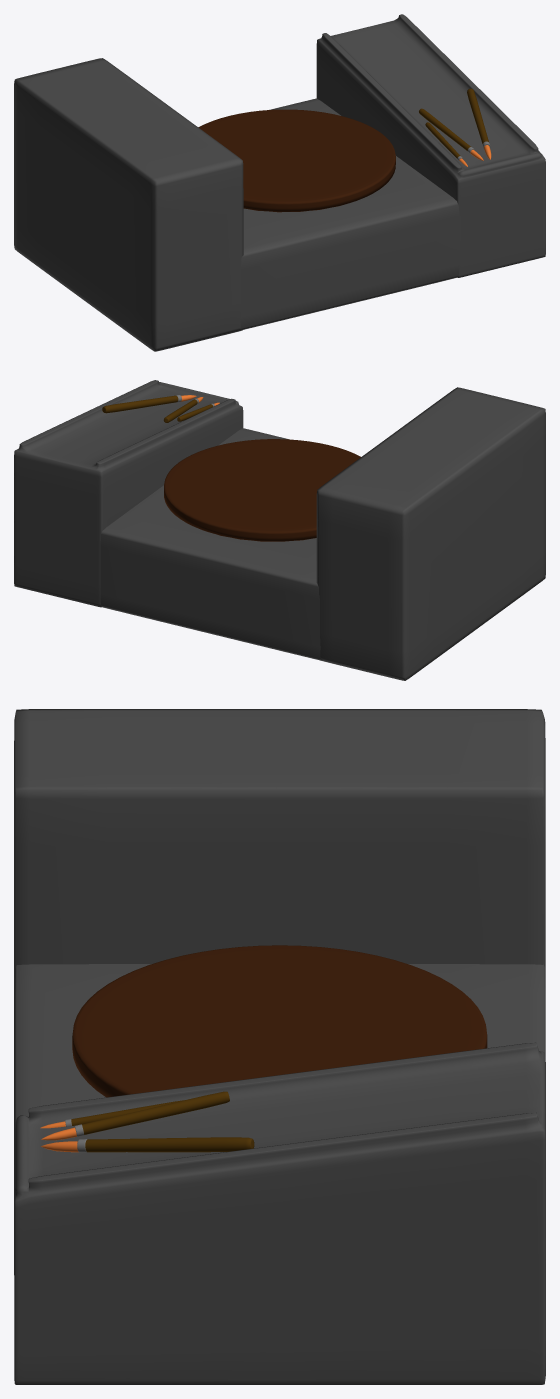
Rendered from PaintersTable.fbx.
3 renders of one model, top to bottom at view 1: azimuth 30°, elevation 25°; view 2: azimuth 150°, elevation 25°; view 3: azimuth 270°, elevation 25°, orthographic. The views are drawn at different scales.
Visible parts, largest first — view 1: Cube.001, Cube.002, Cube, Cylinder, Cylinder.008, Cylinder.007; view 2: Cube.001, Cube.002, Cube, Cylinder, Cylinder.008; view 3: Cube.002, Cube.001, Cylinder, Cube, Cylinder.008, Cylinder.007.
Part boxes in pixels (x1,y1,x2,y2): Cube.001: (14, 58, 243, 351); Cube.002: (316, 14, 545, 277); Cube: (240, 98, 460, 329); Cylinder: (198, 109, 395, 212); Cylinder.008: (467, 88, 488, 143); Cylinder.007: (419, 108, 470, 150); Cube.001: (316, 387, 545, 680); Cube.002: (14, 380, 243, 607); Cube: (100, 428, 322, 660); Cylinder: (164, 439, 360, 541); Cylinder.008: (102, 395, 178, 413); Cube.002: (14, 1042, 545, 1384); Cube.001: (14, 709, 545, 1005); Cylinder: (72, 945, 487, 1097); Cube: (14, 964, 545, 1274); Cylinder.008: (85, 1137, 254, 1152); Cylinder.007: (82, 1091, 229, 1134).
Bounding box in the file's own units: 319 × 133 × 200.
